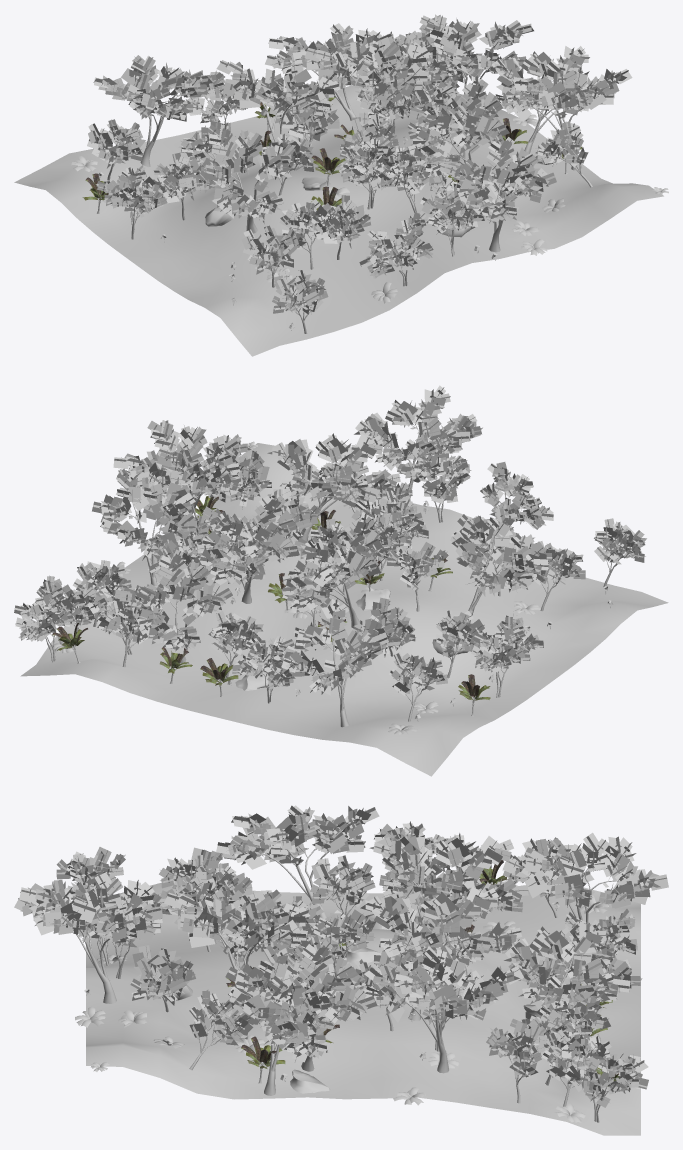
Rendered from O_004_ground_03_01.fbx.
3 renders of one model, top to bottom at view 1: azimuth 30°, elevation 25°; view 2: azimuth 150°, elevation 25°; view 3: azimuth 270°, elevation 25°, orthographic. The views are drawn at different scales.
Visible parts, largest first — view 1: ground001, tree030, tree062, tree036, tree072, tree098, tree065, tree069, tree071, tree070, tree038, tree110 (+19 smaller); view 2: ground001, tree062, tree110, tree098, tree072, tree069, tree065, tree030, tree036, tree071, tree070, tree100 (+24 smaller); view 3: ground001, tree036, tree098, tree069, tree065, tree072, tree110, tree030, tree070, tree062, tree071, tree107 (+24 smaller).
Part boxes in pixels (box(x1,y1,x2,y2)): ground001: box(14, 85, 663, 356); tree030: box(178, 124, 294, 233); tree062: box(408, 75, 509, 176); tree036: box(439, 134, 556, 252); tree072: box(304, 37, 430, 148); tree098: box(93, 55, 213, 167); tree065: box(216, 60, 340, 174); tree069: box(419, 14, 533, 105); tree071: box(495, 60, 632, 170); tree070: box(489, 46, 616, 154); tree038: box(359, 211, 433, 286); tree110: box(265, 23, 393, 129); ground001: box(20, 443, 668, 776); tree062: box(267, 433, 400, 541); tree110: box(114, 546, 232, 662); tree098: box(281, 598, 394, 727); tree072: box(197, 490, 299, 603); tree069: box(92, 468, 197, 585); tree065: box(281, 512, 382, 628); tree030: box(450, 503, 552, 623); tree036: box(354, 385, 482, 500); tree071: box(129, 420, 251, 513); tree070: box(113, 437, 240, 537); tree100: box(471, 612, 543, 697); ground001: box(86, 883, 640, 1135); tree036: box(14, 872, 163, 1003); tree098: box(502, 832, 668, 923); tree069: box(363, 945, 523, 1073); tree065: box(369, 833, 528, 957); tree072: box(360, 887, 521, 1020); tree110: box(504, 919, 642, 1055); tree030: box(216, 805, 379, 919); tree070: box(243, 935, 377, 1071); tree062: box(164, 891, 310, 997); tree071: box(225, 940, 341, 1095); tree107: box(560, 1034, 648, 1122).
Bounding box in the file's own units: 2207 × 653 × 2324.
